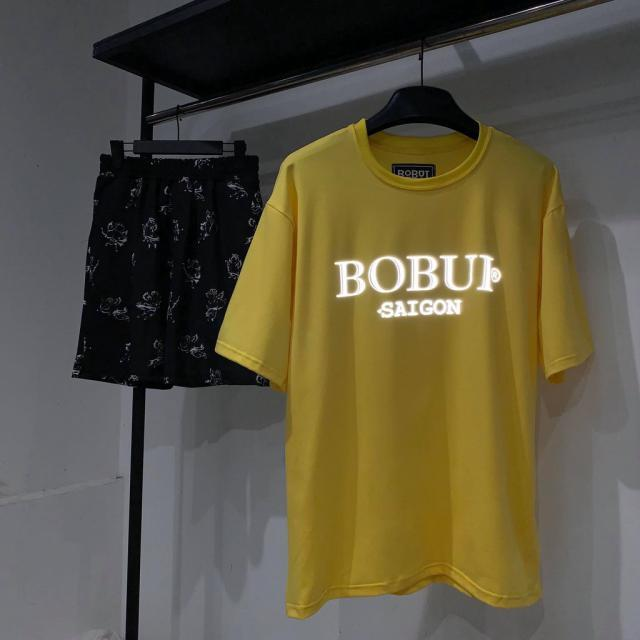Shirt: (222, 113, 600, 616)
